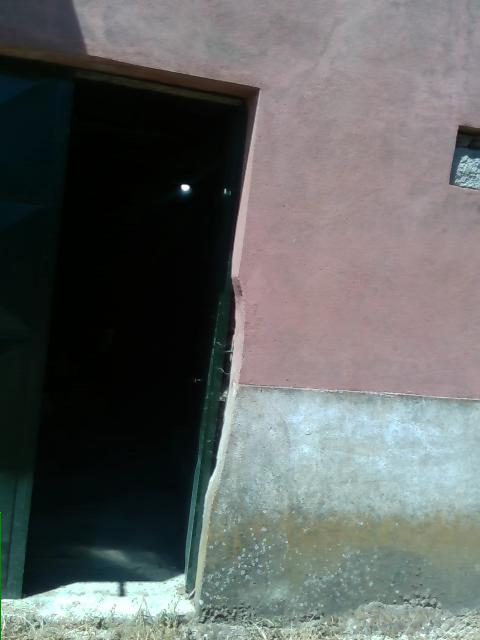open_door: (1, 39, 262, 621)
